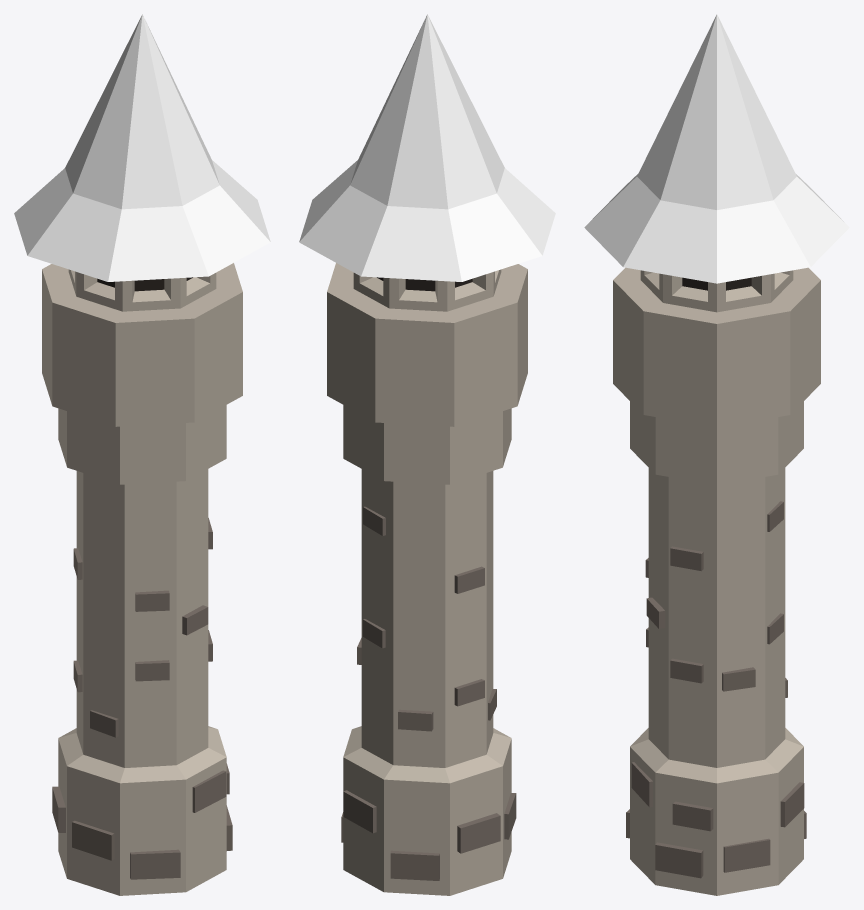
File: ptower.glb
The picture shows the model from 3 angles, left to right: view 1: azimuth 30°, elevation 25°; view 2: azimuth 150°, elevation 25°; view 3: azimuth 270°, elevation 25°; orthographic projection.
Parts seen in each view (by area): view 1: PointyTower; view 2: PointyTower; view 3: PointyTower.
Boxes of the visible parts, left/top/right/bottom form: PointyTower: left=14, top=14, right=270, bottom=895; PointyTower: left=299, top=14, right=555, bottom=895; PointyTower: left=584, top=14, right=849, bottom=895.
Size of the model in its own units: 0.2847 by 1 by 0.2847.
